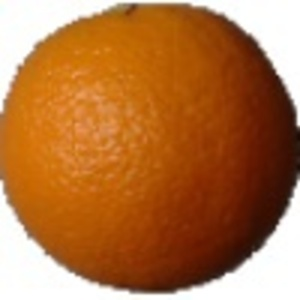laranja: (3, 2, 295, 297)
